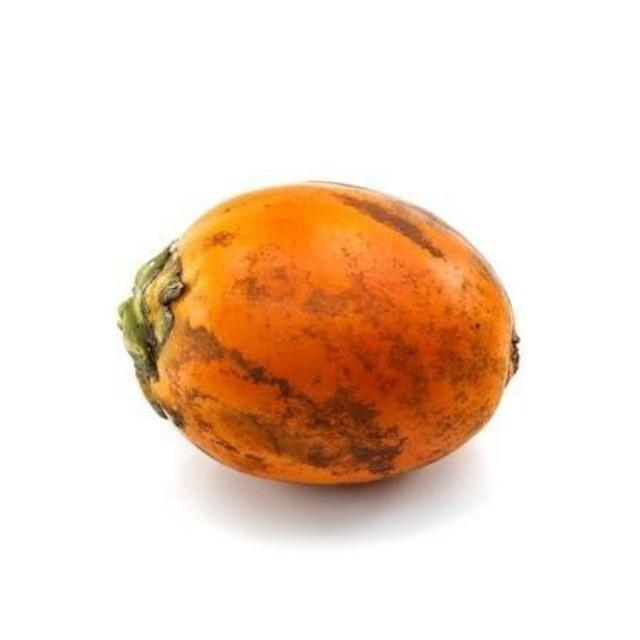good: (117, 182, 519, 488)
